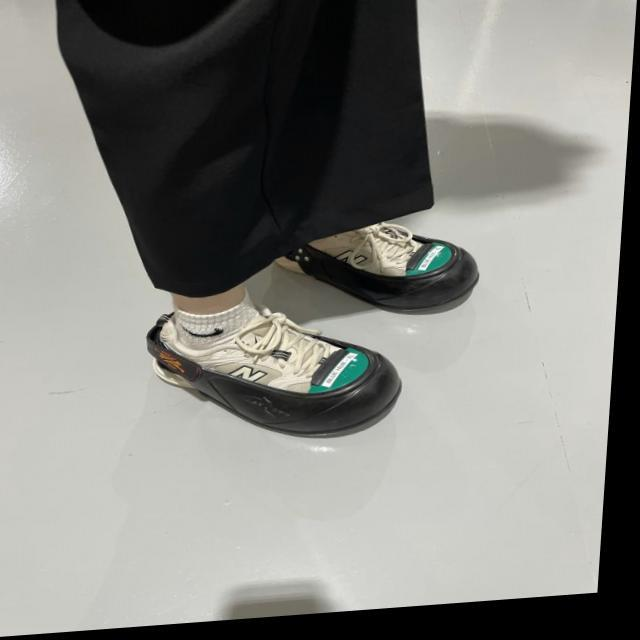shoes: (140, 306, 410, 447), (269, 213, 485, 324)
